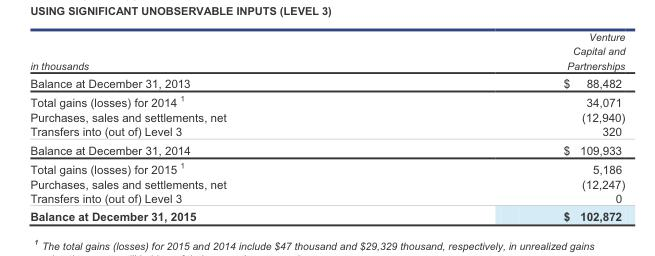table: (29, 29, 624, 224)
table column: (29, 29, 394, 224), (394, 29, 624, 224)
table column header: (29, 29, 624, 73)
table row: (29, 29, 624, 73), (29, 73, 624, 91), (29, 91, 624, 109), (29, 140, 624, 158), (29, 158, 624, 176), (29, 207, 624, 224), (29, 124, 624, 140), (29, 191, 624, 207), (29, 109, 624, 124), (29, 176, 624, 191)
